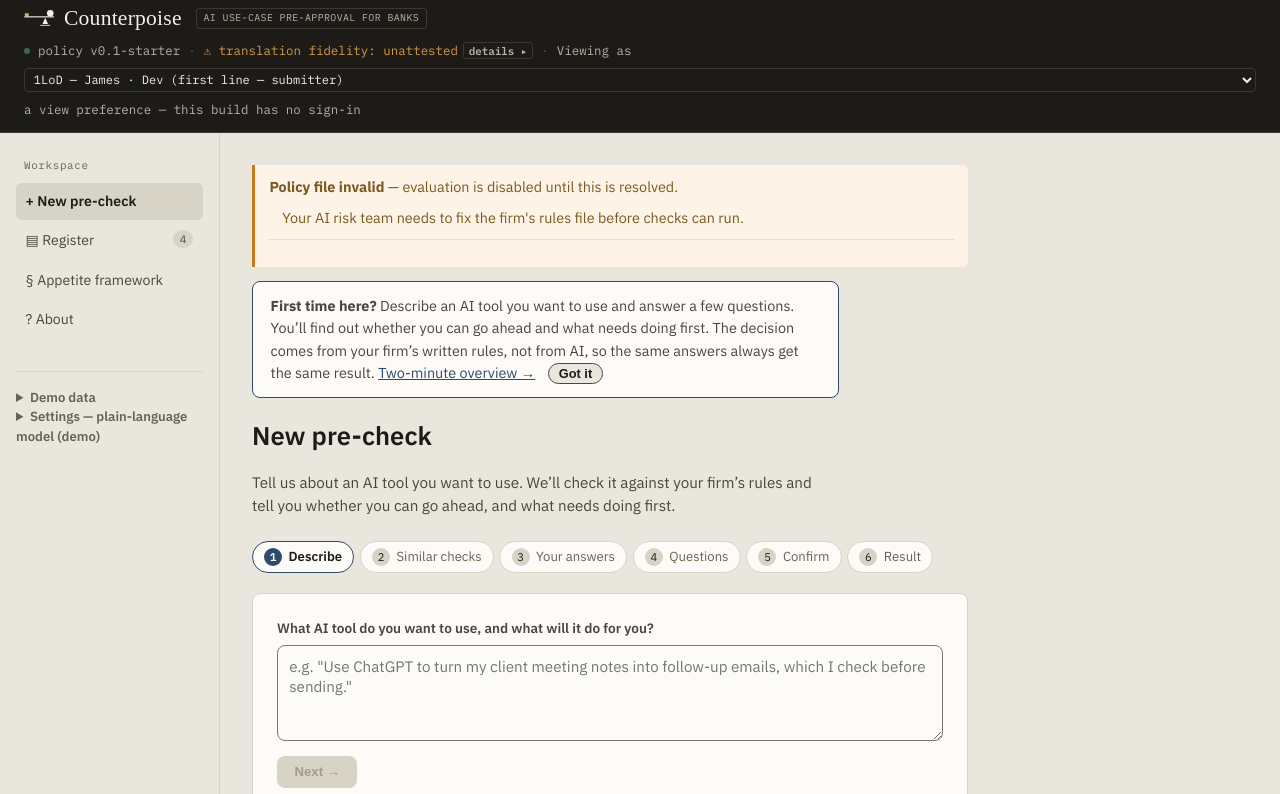
Test case: Browser Back button actually navigates within the app (explore-010 D-001) › TC-CR4-F14-01: sidebar "Register" while a detail is open returns to the list (was a dead click)
Click the text "▤ Register".
click(60, 240)  # box [26,232,94,250]
(page scrolled)
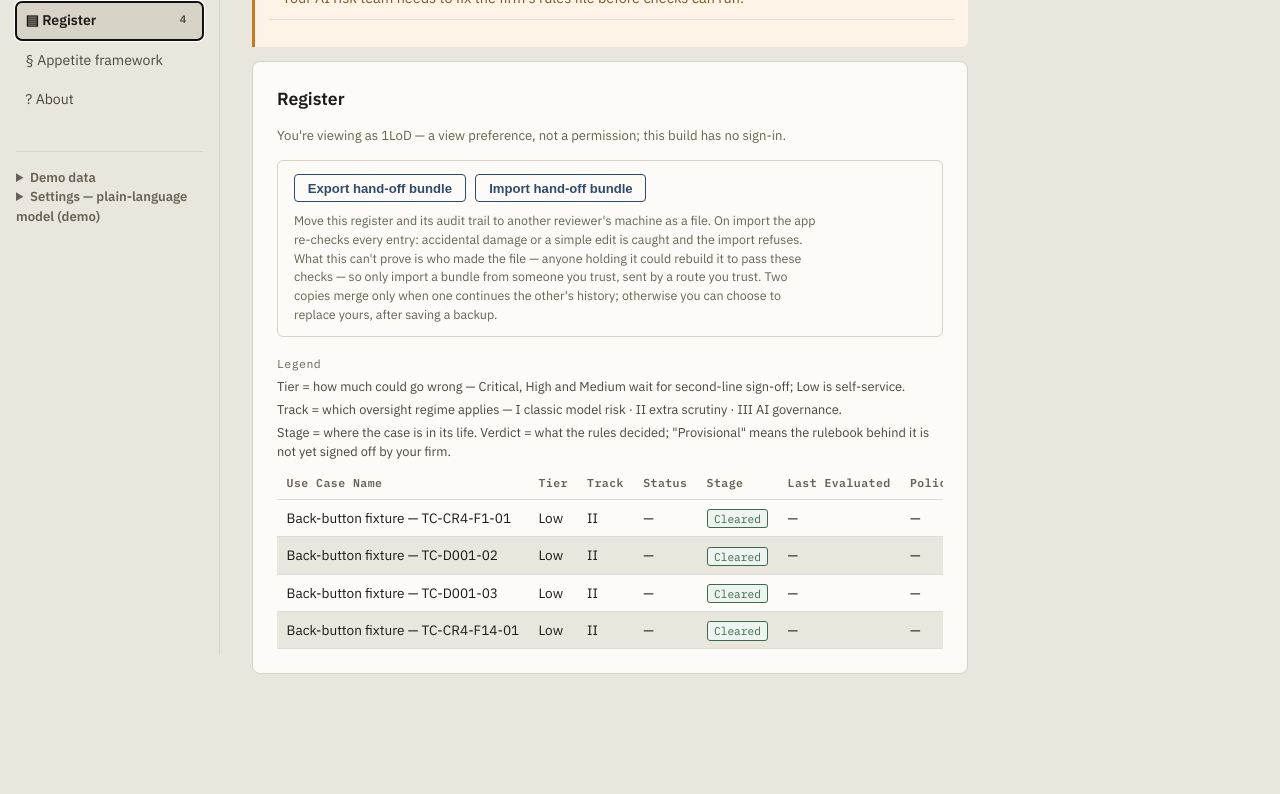
Expected: the button "Back-button fixture — TC-CR4-F14-01" is shown
Click the button "Back-button fixture — TC-CR4-F14-01".
click(403, 630)  # box [287,620,519,640]
(page scrolled)
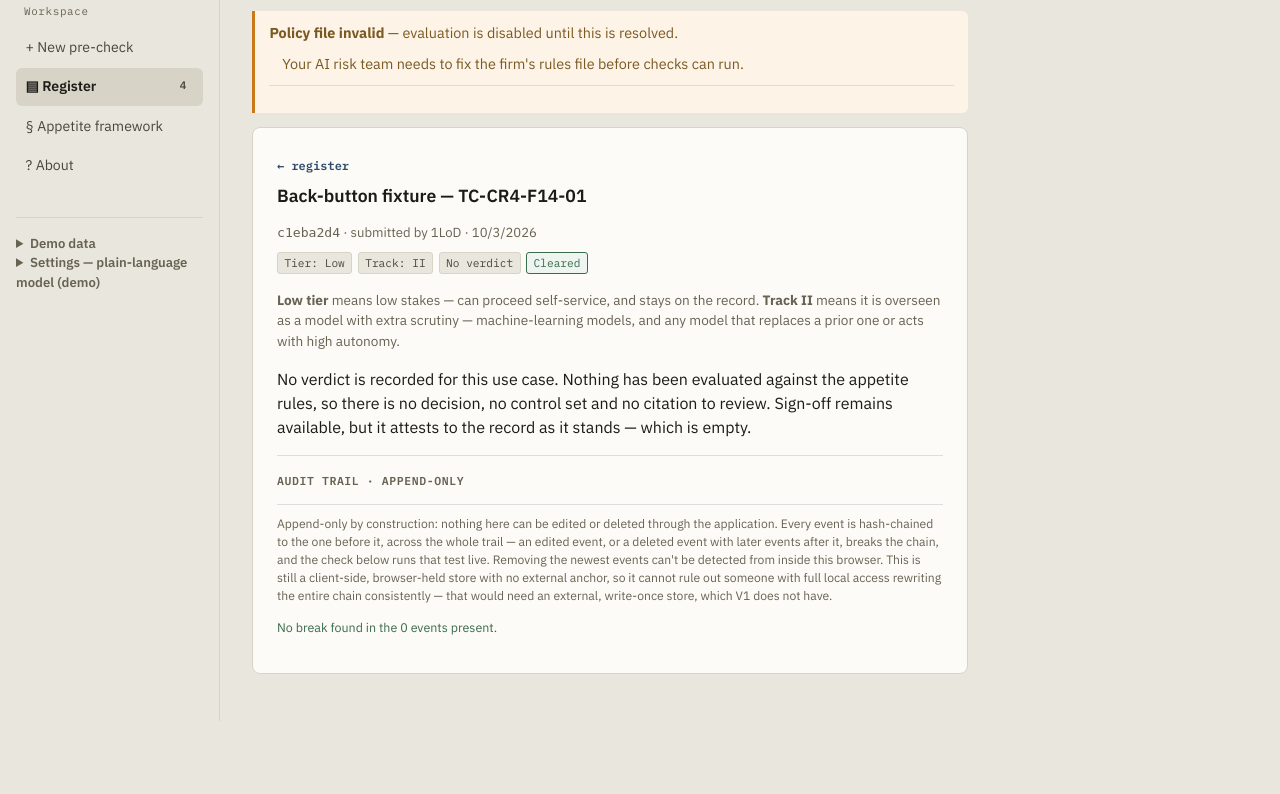
Expected: the button "← register" is shown, [277,158,349,173]
Click the text "▤ Register".
click(61, 86)  # box [26,78,96,96]
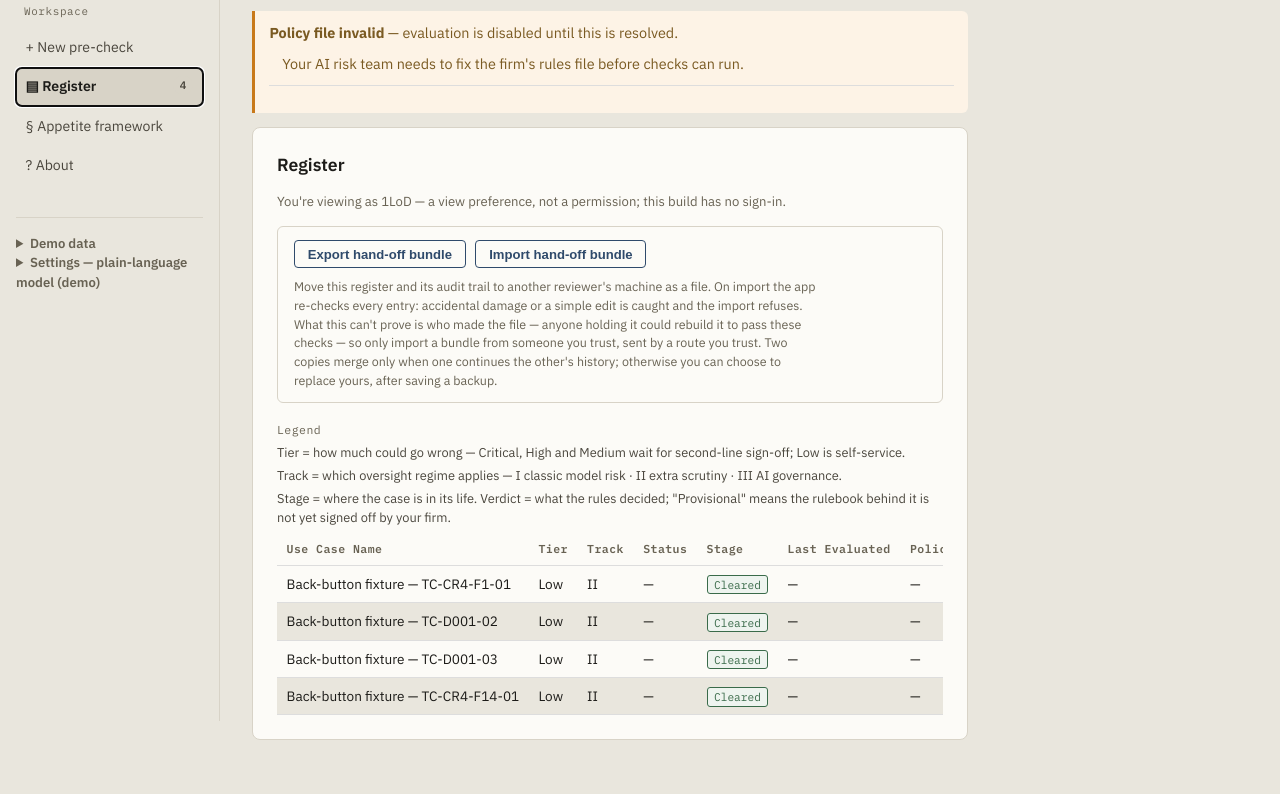
Expected: the button "Back-button fixture — TC-CR4-F14-01" is shown, [287,686,519,706]
Expected: the heading "Register" is shown, [277,153,345,176]
